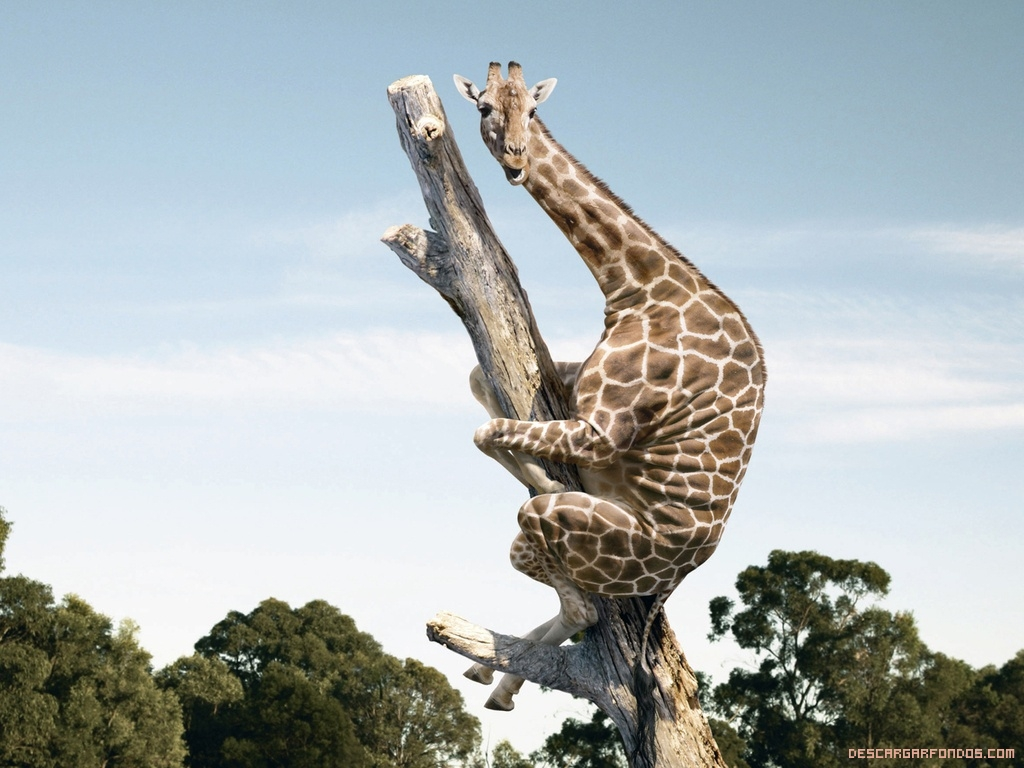Jirafa: (455, 38, 695, 317)
